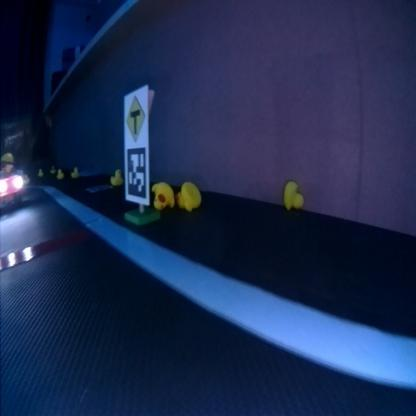Duckie: (178, 181, 202, 211), (153, 181, 175, 208), (284, 180, 304, 209), (112, 169, 124, 185), (72, 166, 80, 176), (58, 168, 65, 177), (39, 168, 44, 176)
Intersection sign: (124, 94, 148, 140)
QR code: (126, 148, 148, 198)
